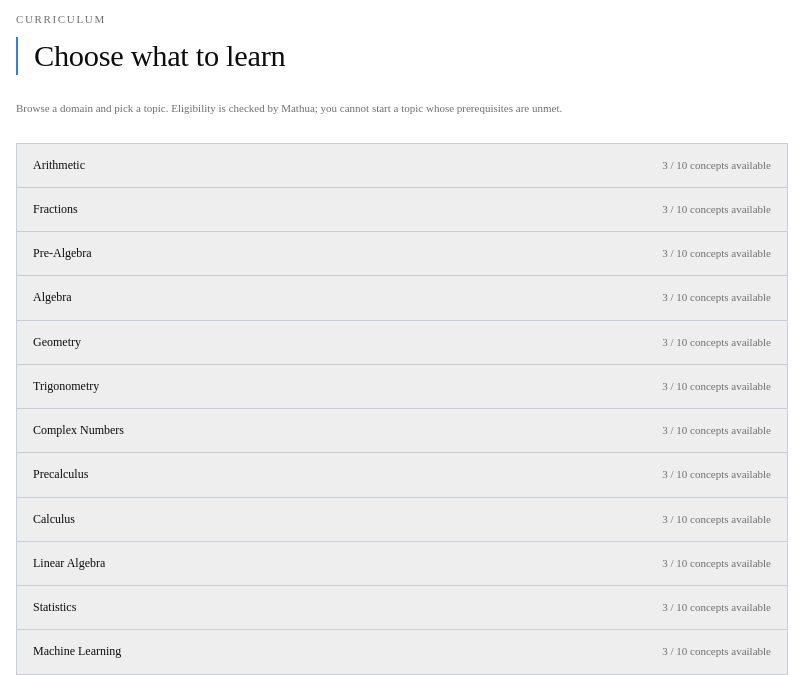
Test: /domains curriculum picker › opens a domain and renders its topics with server states
The image size is (805, 675).
Click the text "Arithmetic".
click(59, 164)  # box [33, 156, 85, 172]
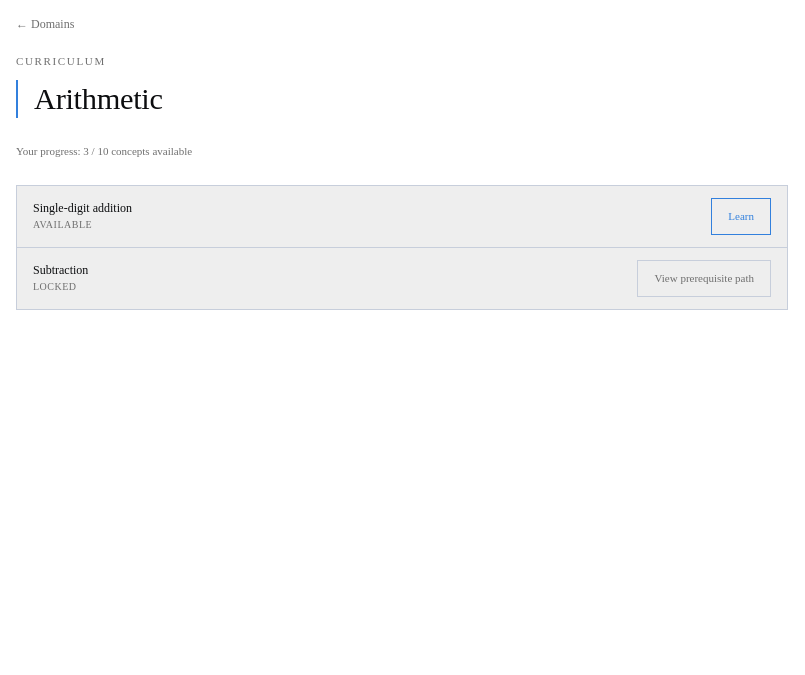
Expected: the text "Available" is shown, [33, 219, 92, 230]
Now the text "Single-digit addition" is shown, box [33, 201, 132, 215]
Now the text "Locked" is shown, box [33, 281, 77, 292]
